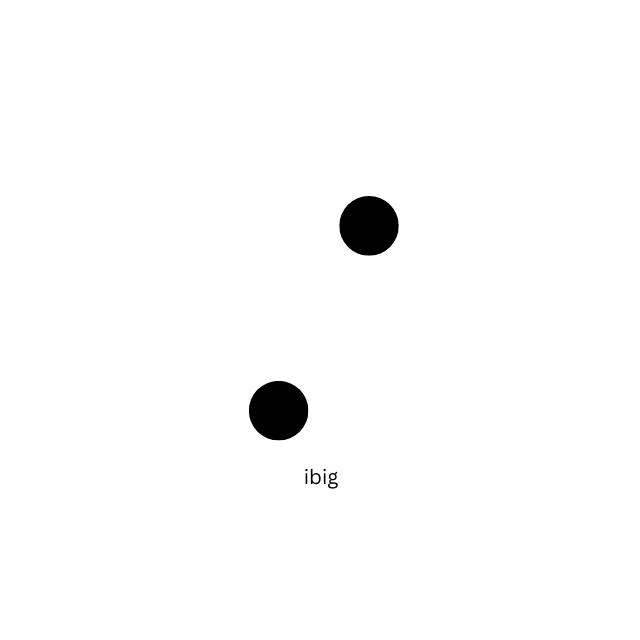one_cell_non_alphabet_ibig: (247, 193, 400, 442)
